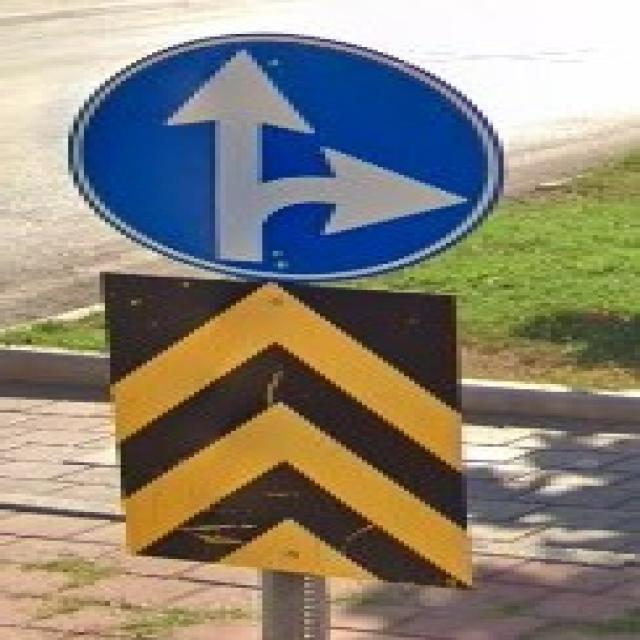Straight or Right: (80, 34, 494, 277)
